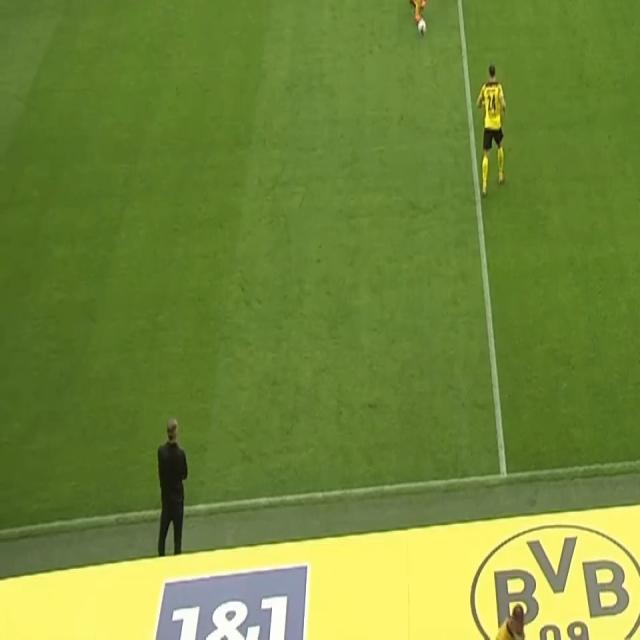ball: (417, 17, 428, 37)
